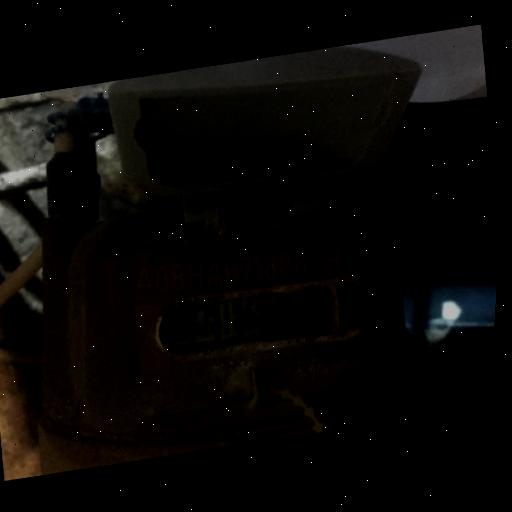0: (166, 297, 199, 354)
1: (212, 293, 249, 348)
4: (281, 285, 316, 341)
6: (236, 290, 271, 345)
7: (187, 296, 224, 352), (258, 287, 293, 343)
9: (304, 282, 339, 338)
border_water_meter_number: (149, 267, 381, 369)
